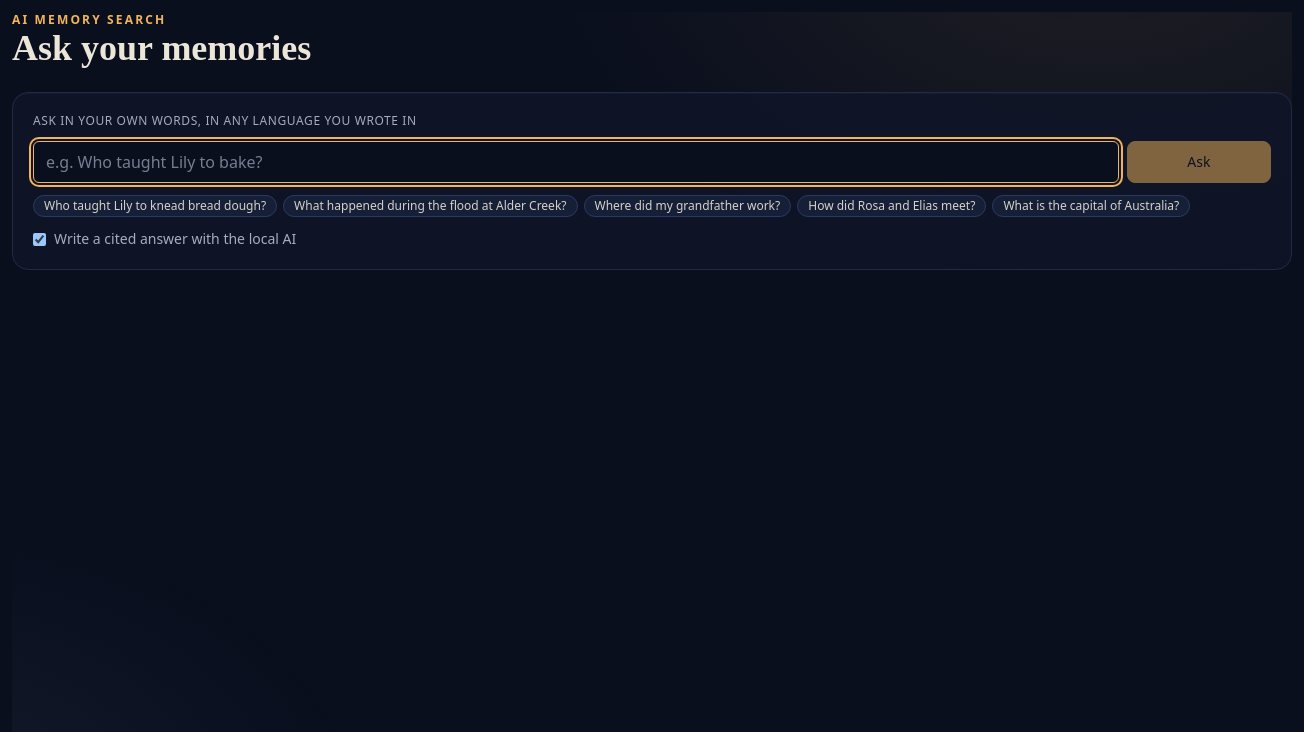
Test: Ask page › never invents an answer when the local model is unavailable, and says how to fix it
This screenshot has width=1304, height=732.
Type "who baked bread" into the field labelled "Ask in your own words, in any language you wrote in". click: (576, 162)
box: top-left (33, 141), bottom-right (1119, 183)
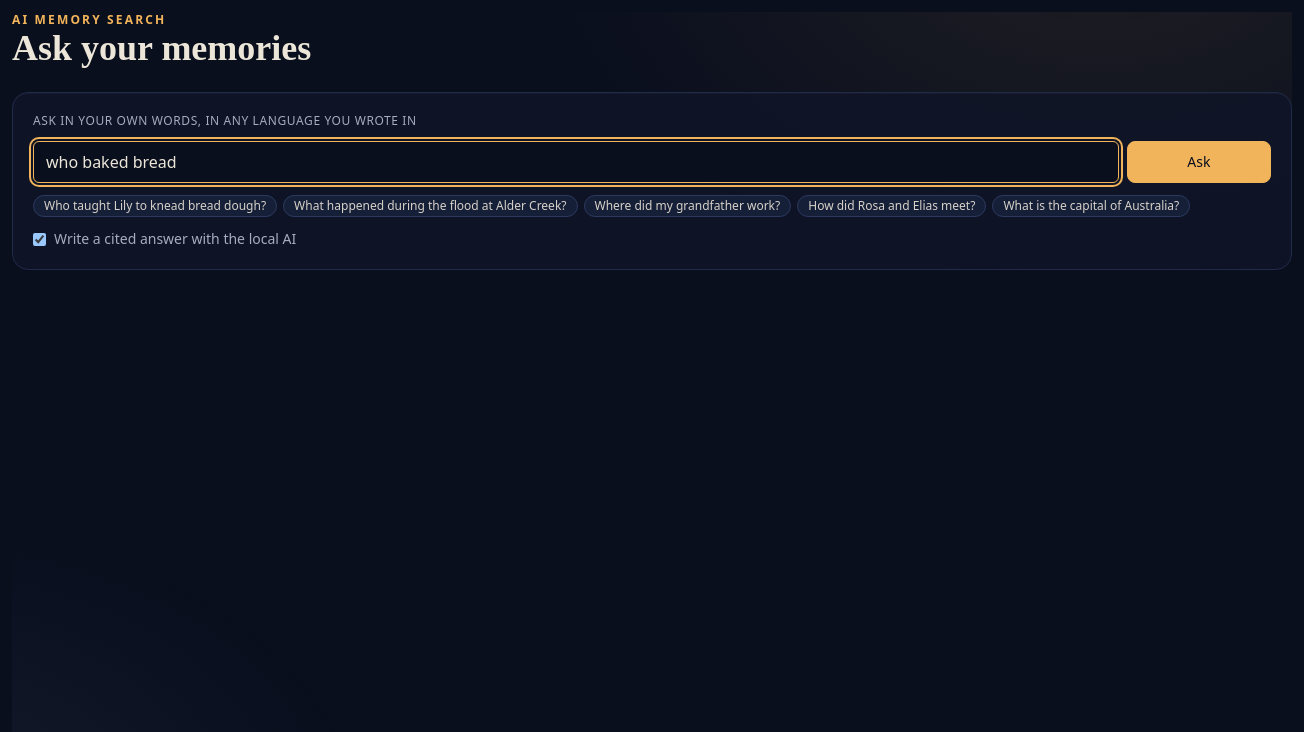
Click the button "Ask". click: click(1199, 162)
box: top-left (1127, 141), bottom-right (1271, 183)
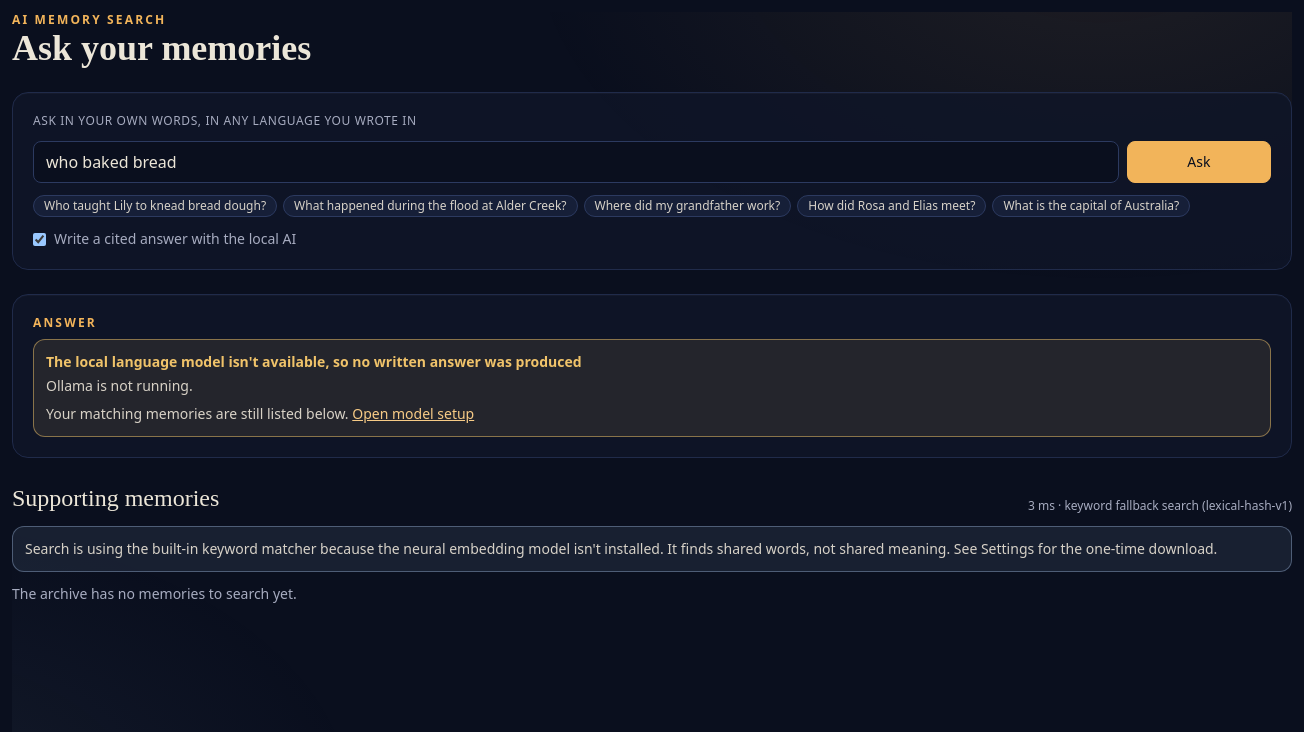
Result: the text "Ollama is not running." is shown at top-left (46, 376), bottom-right (193, 395)
Result: the text "no written answer was produced" is shown at top-left (46, 352), bottom-right (582, 371)
